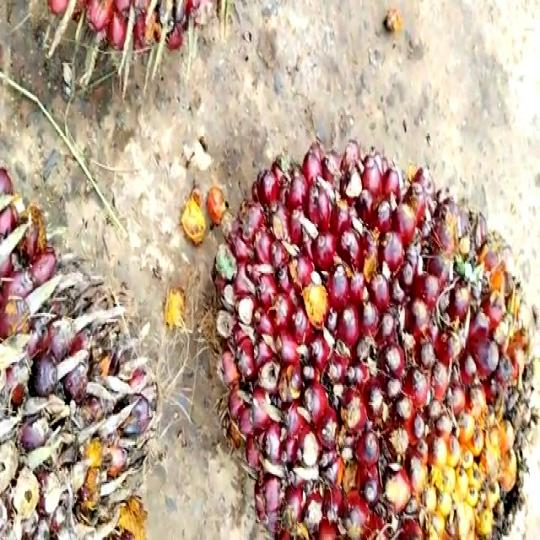kurang masak: (201, 125, 540, 540)
